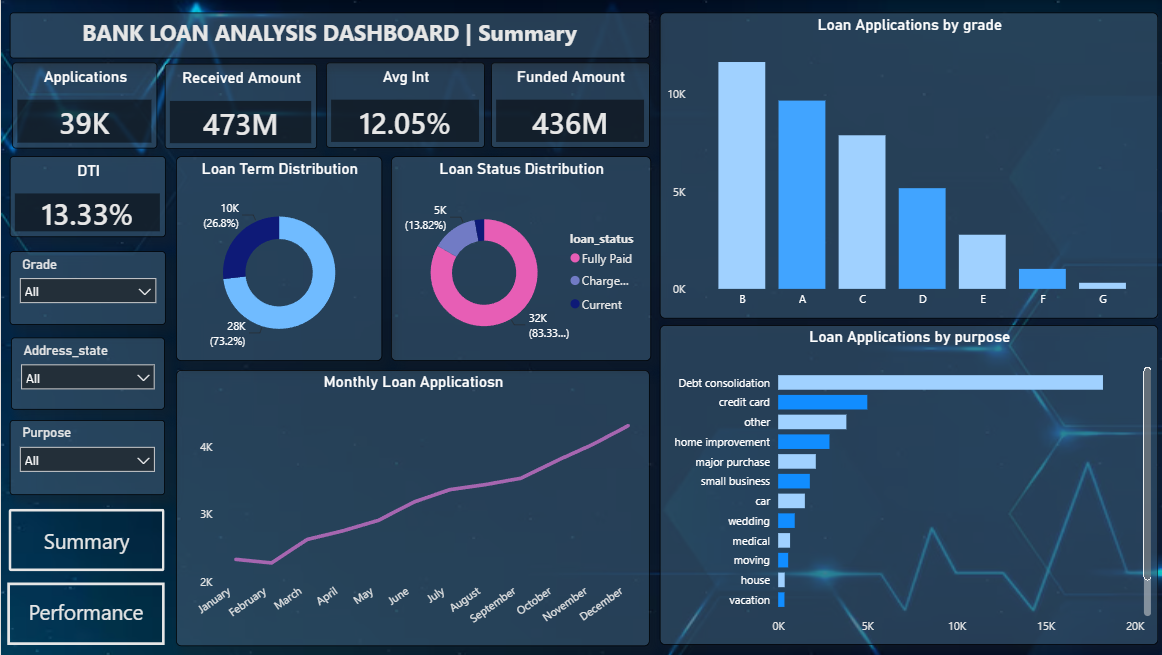

The dashboard page shown, as its layout file describes it:
{"tool":"powerbi","page":{"name":"page 1","canvas":[1280,720],"ordinal":0},"visuals":[{"type":"cardVisual","title":"Applications","fields":{"Data":["financial_loan.Total Loan Applications"]},"box":[12.3,68.6,159.2,94.7],"z":0},{"type":"cardVisual","title":"Avg Int","fields":{"Data":["Avg(financial_loan.int_rate)"]},"box":[356.8,68.6,174.3,93.3],"z":1000},{"type":"cardVisual","title":"Funded Amount","fields":{"Data":["financial_loan.Total Funded Amount"]},"box":[537.9,68.6,174.3,93.3],"z":2000},{"type":"cardVisual","title":"Received Amount","fields":{"Data":["financial_loan.Total Amount Received"]},"box":[179.8,70,167.4,93.3],"z":3000},{"type":"cardVisual","title":"DTI","fields":{"Data":["financial_loan.Average DTI"]},"box":[9.6,171.5,171.5,89.2],"z":4000},{"type":"lineChart","title":"Monthly Loan Applicatiosn","fields":{"Category":["financial_loan.issue_date.Variation.Date Hierarchy.Month","financial_loan.issue_date.Variation.Date Hierarchy.Day"],"Y":["financial_loan.Total Loan Applications"]},"box":[192.1,406.2,520.1,303.3],"z":5000},{"type":"donutChart","title":"Loan Status Distribution","fields":{"Category":["financial_loan.loan_status"],"Y":["financial_loan.Total Loan Applications"]},"box":[428.1,171.5,285.4,225],"z":6000},{"type":"columnChart","title":" Loan Applications by grade","fields":{"Category":["financial_loan.grade"],"Y":["financial_loan.Total Loan Applications"]},"box":[723.2,13.7,547.5,336.2],"z":7000},{"type":"clusteredBarChart","title":"Loan Applications by purpose","fields":{"Category":["financial_loan.purpose"],"Y":["financial_loan.Total Loan Applications"]},"box":[723.2,356.8,547.5,351.3],"z":8000},{"type":"slicer","fields":{"Values":["financial_loan.address_state"]},"box":[11,370.5,168.8,79.6],"z":9000},{"type":"slicer","fields":{"Values":["financial_loan.grade"]},"box":[9.6,275.8,171.5,81],"z":10000},{"type":"slicer","fields":{"Values":["financial_loan.purpose"]},"box":[9.6,461.1,170.2,82.3],"z":11000},{"type":"textbox","box":[9.6,13.7,702.6,50.8],"z":12000},{"type":"actionButton","title":"Summary","box":[8.2,558.5,171.5,68.6],"z":13000},{"type":"actionButton","title":"Performance","box":[6.9,639.5,172.9,68.6],"z":14000},{"type":"donutChart","title":"Loan Term Distribution","fields":{"Category":["financial_loan.term"],"Y":["financial_loan.Total Loan Applications"]},"box":[192.1,171.5,226.4,225],"z":15000}]}

Visuals, with their boxes in screenshot pixels (x1, y1, x2, y2), scaled from the page's 1280x720 canvas onto the 1162x655 screenshot:
"Applications" cardVisual: {"x1": 11, "y1": 62, "x2": 156, "y2": 149}
"Avg Int" cardVisual: {"x1": 324, "y1": 62, "x2": 482, "y2": 147}
"Funded Amount" cardVisual: {"x1": 488, "y1": 62, "x2": 647, "y2": 147}
"Received Amount" cardVisual: {"x1": 163, "y1": 64, "x2": 315, "y2": 149}
"DTI" cardVisual: {"x1": 9, "y1": 156, "x2": 164, "y2": 237}
"Monthly Loan Applicatiosn" lineChart: {"x1": 174, "y1": 370, "x2": 647, "y2": 645}
"Loan Status Distribution" donutChart: {"x1": 389, "y1": 156, "x2": 648, "y2": 361}
" Loan Applications by grade" columnChart: {"x1": 657, "y1": 12, "x2": 1154, "y2": 318}
"Loan Applications by purpose" clusteredBarChart: {"x1": 657, "y1": 325, "x2": 1154, "y2": 644}
slicer - financial_loan.address_state: {"x1": 10, "y1": 337, "x2": 163, "y2": 409}
slicer - financial_loan.grade: {"x1": 9, "y1": 251, "x2": 164, "y2": 325}
slicer - financial_loan.purpose: {"x1": 9, "y1": 419, "x2": 163, "y2": 494}
textbox: {"x1": 9, "y1": 12, "x2": 647, "y2": 59}
"Summary" actionButton: {"x1": 7, "y1": 508, "x2": 163, "y2": 570}
"Performance" actionButton: {"x1": 6, "y1": 582, "x2": 163, "y2": 644}
"Loan Term Distribution" donutChart: {"x1": 174, "y1": 156, "x2": 380, "y2": 361}
